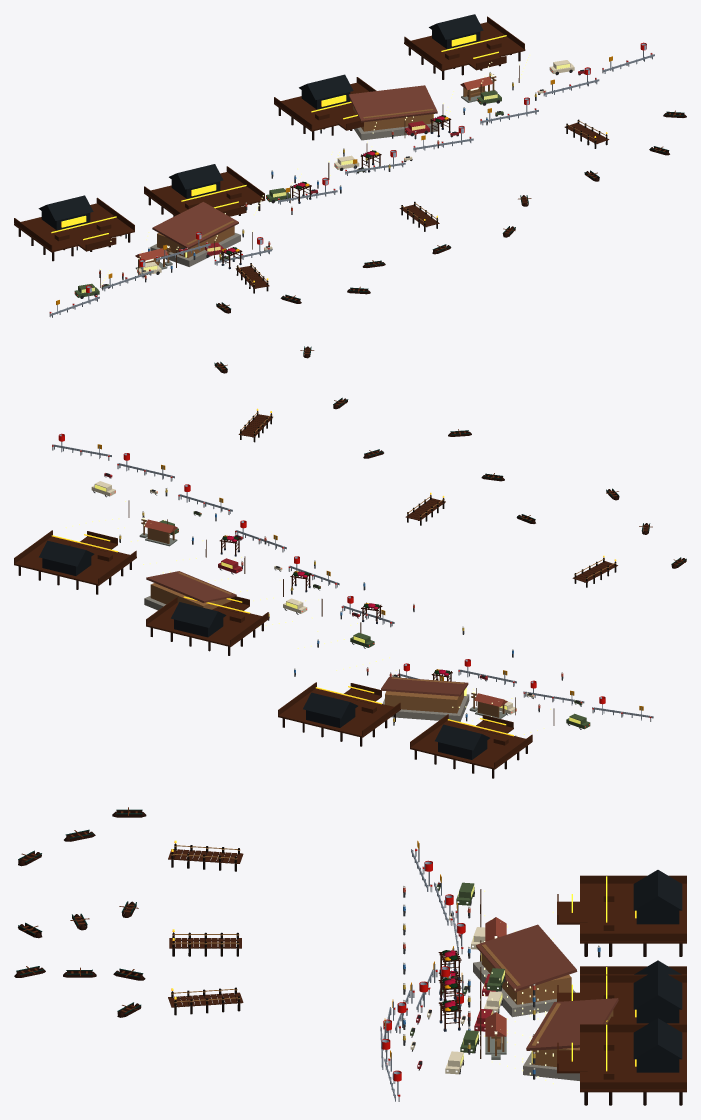
The model's file is ul_w9_03_ankroet_thung_lung_vang_pine_cafes_and_vintage_tour_convoy.glb.
3 renders of one model, top to bottom at view 1: azimuth 30°, elevation 25°; view 2: azimuth 150°, elevation 25°; view 3: azimuth 270°, elevation 25°, orthographic. The views are drawn at different scales.
Visible parts, largest first — view 1: ul_w9_03_ankroet_thung_lung_vang_pine_cafes_and_vintage_tour (×13); view 2: ul_w9_03_ankroet_thung_lung_vang_pine_cafes_and_vintage_tour (×11); view 3: ul_w9_03_ankroet_thung_lung_vang_pine_cafes_and_vintage_tour (×12).
Boxes of the visible parts, left/top/right/bottom form: ul_w9_03_ankroet_thung_lung_vang_pine_cafes_and_vintage_tour (×13): left=14, top=14, right=654, bottom=317; ul_w9_03_ankroet_thung_lung_vang_pine_cafes_and_vintage_tour (×11): left=14, top=441, right=653, bottom=778; ul_w9_03_ankroet_thung_lung_vang_pine_cafes_and_vintage_tour (×12): left=16, top=810, right=686, bottom=1101.
Bounding box in the file's own units: 129 × 33.89 × 88.1.
